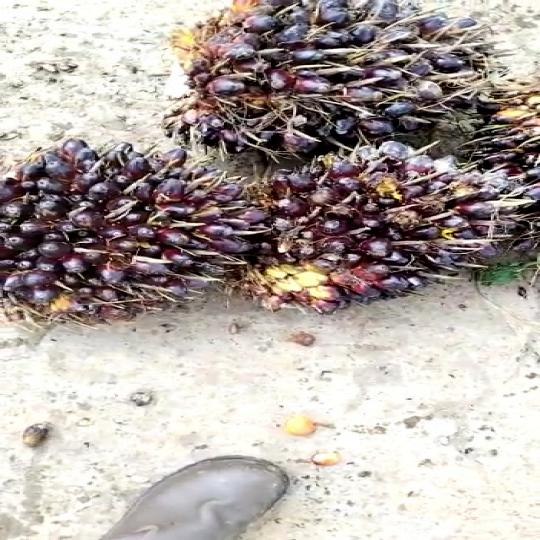kurang masak: (152, 0, 536, 170), (0, 138, 271, 338), (234, 145, 535, 313)
